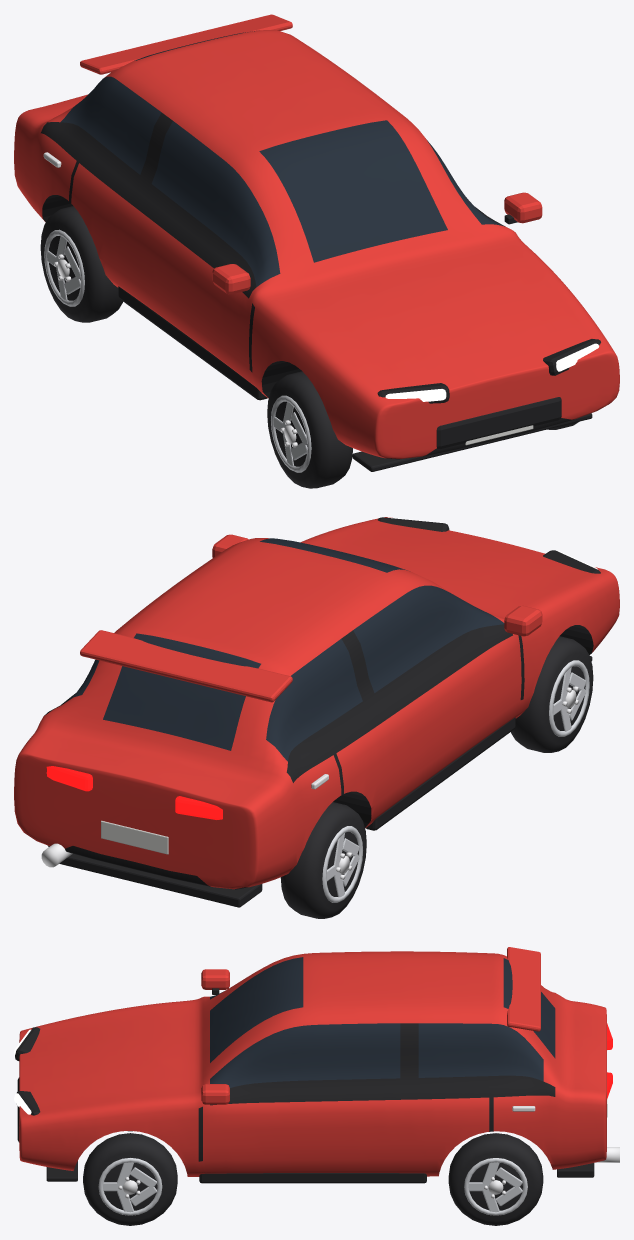
The model's file is kestrel_mid.glb.
The picture shows the model from 3 angles, top to bottom: view 1: azimuth 30°, elevation 25°; view 2: azimuth 150°, elevation 25°; view 3: azimuth 270°, elevation 25°; orthographic projection. The views are drawn at different scales.
Parts seen in each view (by area): view 1: body, wheel_fr, wheel_rr; view 2: body, wheel_rr, wheel_fr; view 3: body, wheel_fl, wheel_rl.
Part boxes in pixels (x1,y1,x2,y2): body: [14, 14, 619, 471]; wheel_fr: [267, 371, 352, 488]; wheel_rr: [40, 206, 122, 322]; body: [14, 517, 619, 907]; wheel_rr: [280, 802, 366, 918]; wheel_fr: [511, 636, 593, 752]; body: [14, 947, 619, 1183]; wheel_fl: [83, 1133, 177, 1225]; wheel_rl: [448, 1133, 543, 1225].
Size of the model in its own units: 2.06 by 1.52 by 4.23.
